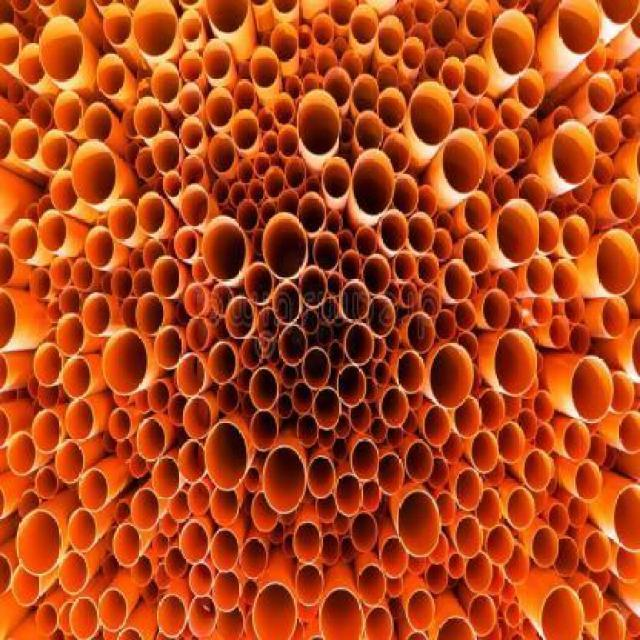pipe: (203, 420, 248, 491), (16, 508, 62, 576), (262, 445, 307, 514), (202, 214, 247, 282), (442, 128, 487, 196), (39, 15, 84, 83), (397, 489, 442, 557), (102, 330, 148, 396), (71, 140, 117, 205), (429, 343, 474, 409), (262, 214, 307, 279), (409, 82, 454, 147), (571, 355, 614, 423), (494, 329, 537, 397), (596, 228, 639, 296), (353, 149, 396, 217), (553, 120, 596, 186), (491, 10, 534, 76), (496, 199, 539, 264), (132, 0, 177, 57), (253, 582, 297, 640), (319, 586, 365, 640), (557, 2, 603, 56), (541, 585, 585, 640), (612, 483, 640, 552), (205, 0, 250, 34), (182, 395, 213, 440), (179, 520, 210, 565), (349, 437, 380, 480), (136, 417, 167, 460), (176, 353, 207, 396), (32, 343, 63, 386), (79, 468, 108, 513), (8, 431, 37, 476), (59, 551, 88, 596), (211, 528, 240, 573), (11, 565, 42, 607), (179, 440, 207, 485), (180, 183, 208, 228), (505, 486, 534, 529), (454, 468, 483, 511), (151, 457, 180, 500), (307, 456, 336, 499), (376, 453, 405, 496), (522, 448, 551, 491), (56, 440, 85, 483), (65, 399, 94, 442), (157, 594, 186, 637), (380, 385, 409, 428), (250, 368, 279, 411), (337, 365, 366, 408), (407, 590, 436, 633), (154, 325, 183, 368), (345, 322, 374, 365), (99, 588, 128, 631), (82, 293, 111, 336), (136, 293, 165, 336), (39, 210, 68, 253), (379, 208, 408, 251), (137, 191, 166, 234), (322, 157, 351, 200), (134, 96, 163, 139), (377, 86, 406, 129), (357, 563, 386, 606), (202, 37, 231, 80), (380, 536, 409, 579), (113, 525, 142, 568), (68, 510, 97, 553), (188, 595, 217, 637), (467, 594, 496, 636), (62, 355, 91, 397), (56, 314, 85, 356), (482, 288, 511, 330), (362, 254, 391, 296), (85, 226, 114, 268), (213, 571, 242, 613), (382, 132, 411, 174), (153, 131, 182, 173), (83, 102, 112, 144), (350, 5, 379, 47), (465, 551, 494, 593), (293, 522, 322, 564), (131, 488, 159, 531), (335, 473, 363, 516), (471, 430, 499, 473), (497, 420, 525, 463), (69, 597, 97, 640), (397, 351, 425, 394), (302, 346, 330, 389), (208, 342, 236, 385), (225, 296, 253, 339), (272, 280, 300, 323), (152, 254, 180, 297), (562, 216, 590, 259), (108, 199, 136, 242), (465, 190, 493, 233), (51, 170, 79, 213), (11, 119, 39, 162), (295, 563, 323, 606), (97, 53, 125, 96), (103, 3, 131, 46), (297, 191, 326, 232), (610, 179, 639, 220), (251, 491, 279, 533), (574, 460, 602, 502), (405, 440, 433, 482), (563, 420, 591, 462), (249, 409, 277, 451), (454, 397, 482, 439), (477, 388, 505, 430), (312, 386, 340, 428), (279, 325, 307, 367), (406, 311, 434, 353), (602, 295, 630, 337), (342, 280, 370, 322), (299, 265, 327, 307), (245, 262, 273, 304), (443, 258, 471, 300), (525, 254, 553, 296), (208, 132, 236, 174), (42, 129, 70, 171), (492, 129, 520, 171), (231, 109, 259, 151), (54, 91, 82, 133), (586, 72, 614, 114), (152, 62, 180, 104), (251, 46, 279, 88), (377, 15, 405, 57), (240, 537, 268, 579), (583, 531, 611, 573), (531, 525, 559, 567), (349, 511, 377, 553), (367, 296, 396, 336), (354, 109, 383, 149), (9, 221, 37, 262), (593, 115, 622, 154), (465, 0, 494, 39), (211, 486, 239, 526), (423, 406, 451, 446), (312, 231, 340, 271), (408, 214, 436, 254), (206, 88, 234, 128), (351, 74, 379, 114), (323, 68, 351, 108), (271, 23, 299, 63), (503, 545, 531, 585), (486, 525, 514, 565), (577, 580, 603, 623), (463, 54, 489, 97), (476, 488, 502, 530), (553, 260, 579, 302), (393, 174, 419, 216), (519, 174, 547, 213), (517, 68, 543, 110), (20, 43, 45, 86), (434, 615, 477, 640), (0, 288, 17, 351), (553, 537, 579, 577), (431, 9, 457, 48), (0, 22, 22, 68), (611, 371, 634, 414), (365, 606, 394, 639), (618, 411, 640, 454), (537, 211, 560, 252), (597, 608, 626, 640), (615, 545, 640, 582), (217, 606, 245, 639), (174, 226, 199, 262), (188, 561, 213, 597), (34, 466, 59, 500), (108, 408, 133, 442), (215, 381, 240, 414), (442, 57, 465, 92), (434, 491, 456, 527), (188, 482, 211, 516), (531, 389, 554, 423), (186, 317, 209, 351), (183, 283, 206, 317), (180, 117, 203, 151), (402, 36, 425, 70), (179, 9, 202, 43), (180, 154, 205, 185), (316, 491, 339, 524), (71, 258, 94, 291), (417, 252, 440, 285), (394, 249, 417, 282), (339, 248, 362, 281), (354, 225, 377, 258), (180, 49, 203, 82), (130, 554, 153, 587), (165, 546, 188, 579), (546, 502, 568, 536), (169, 489, 191, 523), (35, 602, 57, 636), (297, 414, 319, 448), (434, 308, 456, 342), (257, 306, 279, 340), (29, 266, 51, 300), (431, 228, 453, 262), (263, 166, 285, 200), (475, 97, 497, 131), (312, 12, 334, 46), (428, 531, 450, 565), (428, 457, 450, 490), (442, 431, 464, 464), (515, 408, 537, 441), (292, 381, 314, 414), (148, 380, 170, 413), (242, 337, 264, 370), (568, 323, 590, 356), (495, 268, 517, 301), (49, 255, 71, 288), (237, 200, 259, 233), (285, 157, 307, 190), (135, 146, 157, 179), (500, 98, 522, 131), (272, 92, 294, 125), (585, 41, 607, 74), (211, 283, 232, 317), (181, 82, 202, 116), (566, 497, 589, 528), (348, 402, 371, 433), (419, 286, 442, 317), (142, 239, 165, 270), (329, 2, 357, 27), (111, 268, 132, 301), (0, 243, 16, 286), (360, 480, 382, 511), (534, 423, 556, 454), (492, 174, 514, 205), (31, 99, 53, 130), (234, 79, 256, 110), (340, 51, 362, 82), (392, 2, 414, 33), (168, 392, 188, 426), (549, 314, 569, 348), (593, 152, 613, 186), (320, 531, 340, 565), (316, 48, 339, 77), (410, 22, 433, 51), (425, 563, 448, 592), (417, 185, 437, 218), (277, 125, 297, 158), (122, 296, 141, 330), (19, 489, 42, 517), (59, 286, 82, 314), (457, 331, 479, 360), (454, 300, 476, 329), (132, 268, 154, 297), (514, 128, 533, 161), (586, 436, 606, 467), (576, 203, 596, 234), (563, 295, 585, 323), (277, 189, 299, 217), (37, 383, 60, 409), (570, 179, 593, 205), (376, 63, 399, 89), (531, 296, 551, 325), (122, 105, 139, 138), (163, 171, 183, 199), (0, 551, 13, 594), (425, 48, 443, 79), (487, 565, 505, 596), (483, 462, 505, 487), (552, 106, 574, 131), (58, 600, 74, 634), (248, 179, 267, 207), (522, 117, 541, 145), (413, 2, 436, 25), (453, 102, 471, 130), (503, 394, 522, 420), (505, 602, 524, 628), (6, 80, 25, 106), (369, 415, 386, 443), (328, 340, 345, 368), (193, 255, 210, 283), (129, 452, 148, 477), (142, 579, 161, 604), (151, 532, 170, 557), (333, 413, 351, 439), (447, 553, 465, 579), (373, 362, 391, 387), (320, 297, 338, 322), (114, 499, 131, 525), (243, 466, 260, 492), (276, 393, 293, 419), (522, 374, 539, 400), (302, 308, 319, 334), (229, 182, 246, 208), (213, 179, 230, 205), (254, 153, 271, 179), (125, 142, 142, 168), (620, 114, 637, 140), (160, 511, 177, 537), (258, 202, 277, 225), (116, 439, 133, 464), (400, 409, 417, 434), (134, 388, 151, 413), (280, 363, 297, 388), (385, 328, 402, 353), (46, 297, 63, 322), (400, 283, 417, 308), (383, 280, 400, 305), (326, 271, 343, 296), (242, 580, 259, 605), (237, 159, 254, 184), (154, 563, 171, 588), (102, 555, 119, 580), (608, 70, 624, 96), (340, 536, 356, 562), (241, 392, 257, 417), (266, 340, 282, 365), (371, 337, 387, 362), (129, 248, 145, 273), (261, 131, 277, 156), (257, 108, 273, 133), (137, 77, 153, 102), (406, 556, 426, 576), (268, 520, 284, 545), (622, 66, 636, 94), (283, 531, 297, 559), (331, 439, 348, 462), (317, 426, 334, 449), (176, 302, 193, 325), (549, 199, 566, 222), (285, 76, 302, 99), (333, 511, 350, 534), (237, 368, 252, 394), (302, 74, 321, 94), (337, 229, 352, 254), (386, 426, 403, 448), (316, 323, 333, 345), (474, 268, 491, 290), (499, 583, 516, 605), (326, 211, 342, 234), (363, 376, 377, 402), (251, 228, 264, 256), (273, 0, 299, 14), (436, 211, 453, 232), (300, 58, 316, 80), (340, 120, 354, 145), (299, 25, 313, 50), (388, 597, 403, 620), (386, 577, 403, 597), (28, 373, 41, 399), (214, 318, 229, 340), (305, 175, 322, 194), (103, 430, 117, 453), (11, 0, 34, 13), (280, 508, 297, 525), (114, 392, 131, 408)
